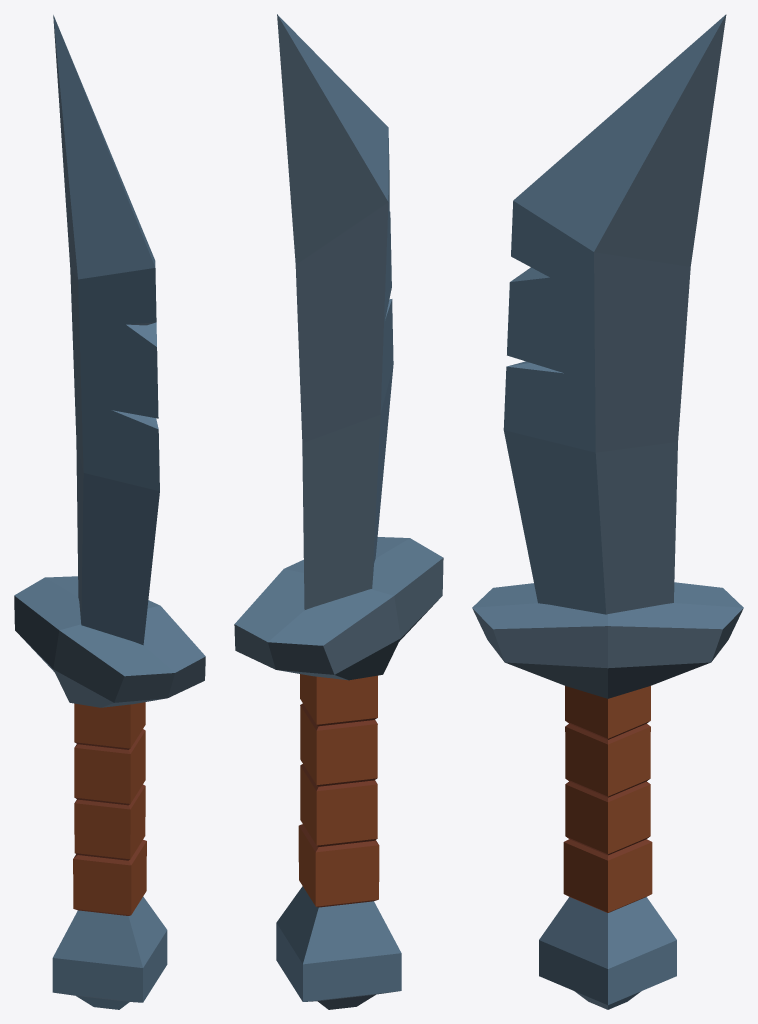
Rendered from SM_Dagger_A.fbx.
The picture shows the model from 3 angles, left to right: view 1: azimuth 30°, elevation 25°; view 2: azimuth 150°, elevation 25°; view 3: azimuth 270°, elevation 25°; orthographic projection. The views are drawn at different scales.
Parts seen in each view (by area): view 1: SM_Dagger_A; view 2: SM_Dagger_A; view 3: SM_Dagger_A.
Part boxes in pixels (left/top/right/bottom): SM_Dagger_A: left=14, top=15, right=205, bottom=1009; SM_Dagger_A: left=234, top=14, right=443, bottom=1009; SM_Dagger_A: left=472, top=14, right=743, bottom=1009.
Size of the model in its own units: 0.1194 by 0.9425 by 0.2351.
